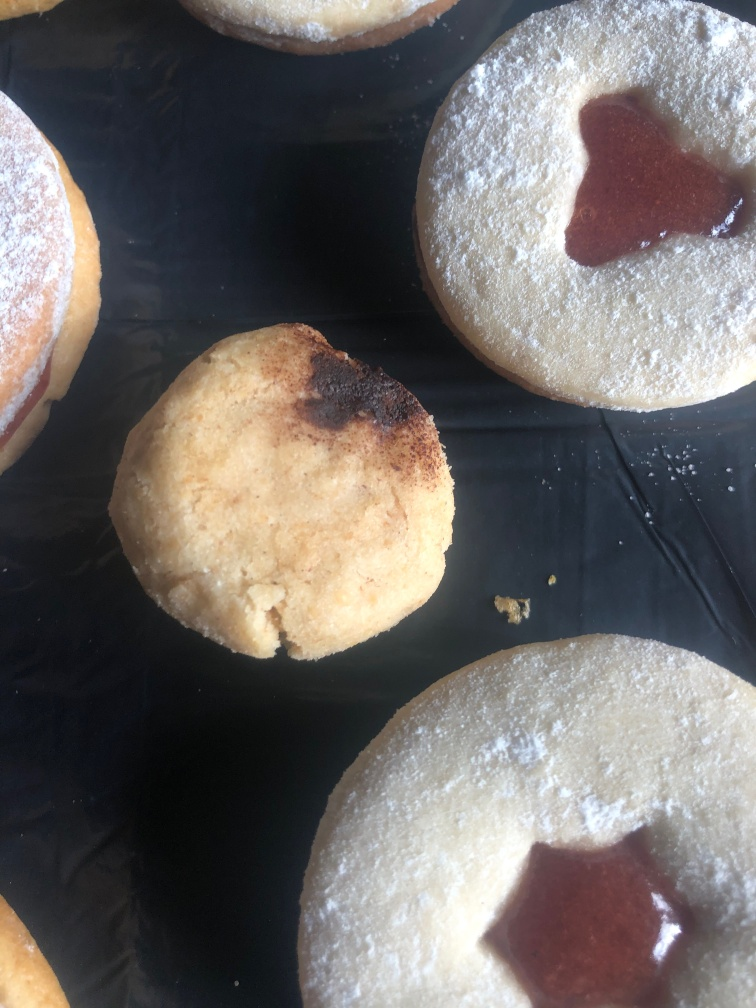christmas shortbread with jam: (306, 630, 756, 1008), (418, 1, 755, 404)
snowball: (115, 318, 454, 672)
